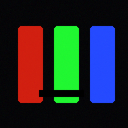3 line_h: (39, 90, 83, 96)
